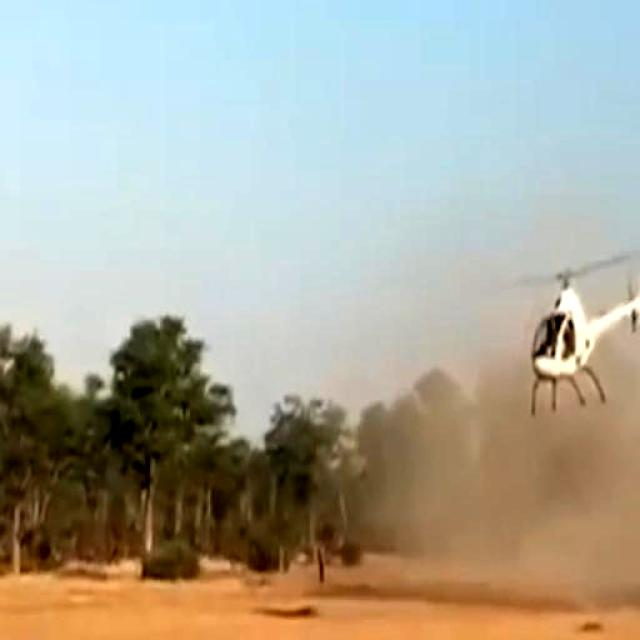drone: (510, 225, 640, 444)
